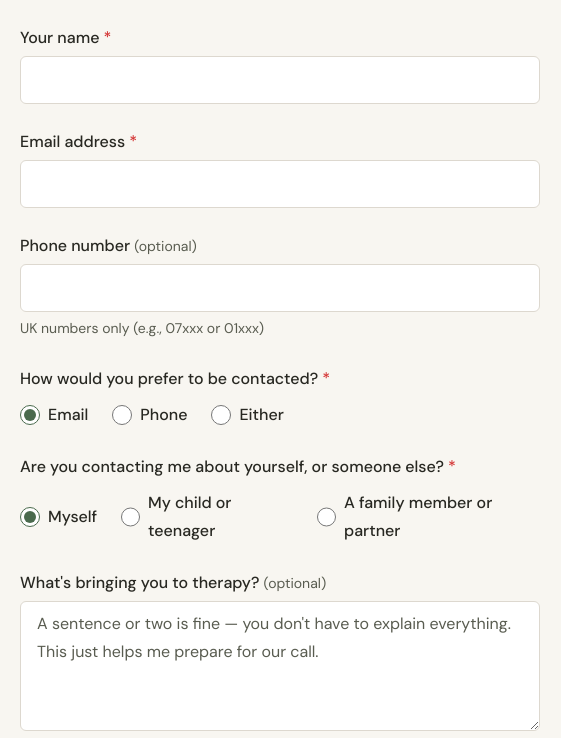
Scenario: ContactForm Component › Edge Cases › updates character counter as user types
Note: Type some text
Step 1. Type "Hello world" into the text box labelled "What's bringing you to therapy? (optional)" → (280, 666), box [20,600,540,730]
(page scrolled)
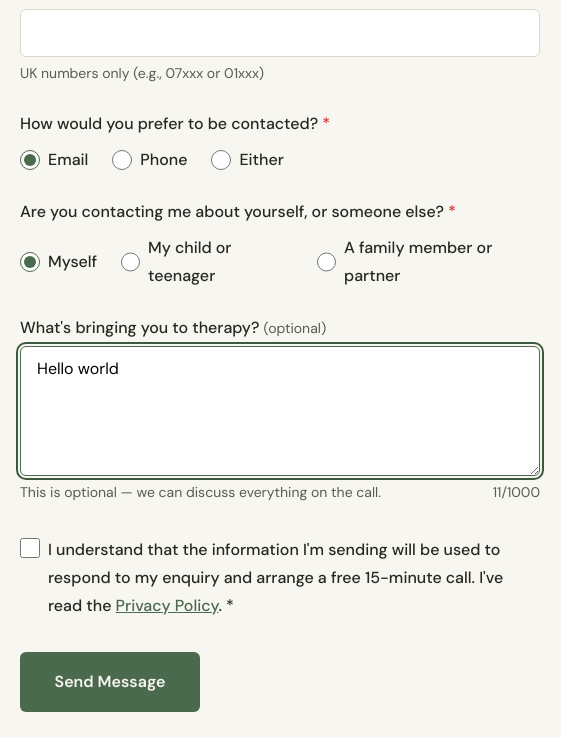
Now the text "11/1000" is shown, box [493,480,540,504]
